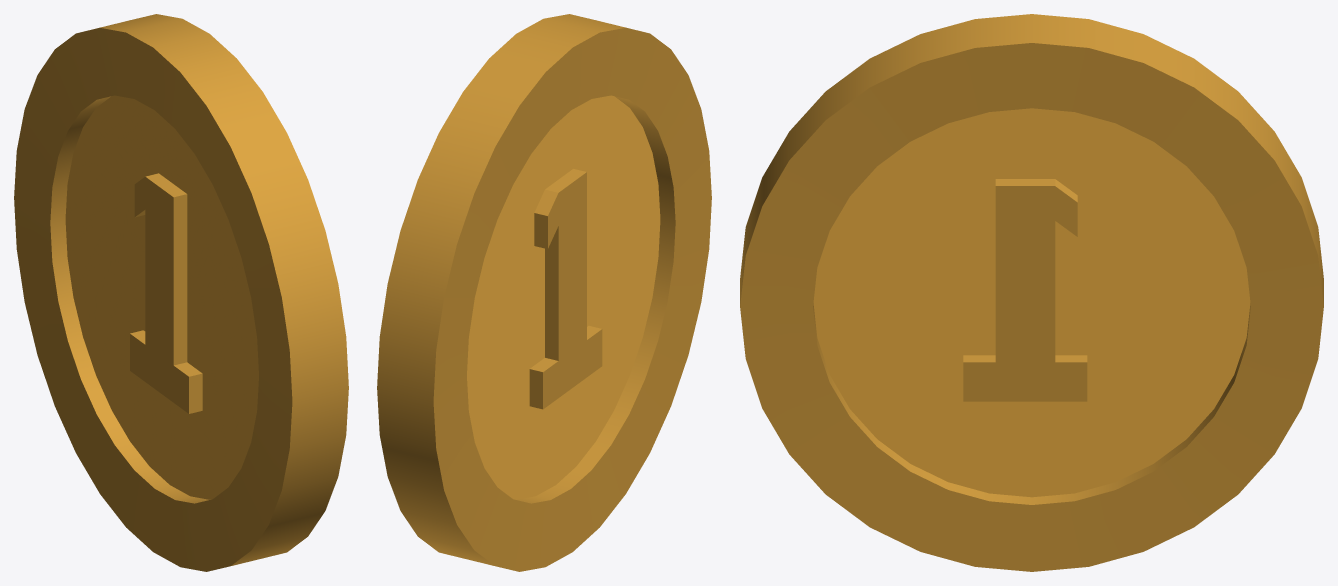
Rendered from Coin.fbx.
3 views of the same model, side by side, from view 1: azimuth 30°, elevation 25°; view 2: azimuth 150°, elevation 25°; view 3: azimuth 270°, elevation 25° (orthographic). The views are drawn at different scales.
Visible parts, largest first — view 1: Cylinder.007, Cylinder.006, Cube.004; view 2: Cylinder.007, Cylinder.006, Cube.004; view 3: Cylinder.007, Cylinder.006, Cube.004.
Boxes of the visible parts, x1,y1,x2,y2 form: Cylinder.007: [14, 14, 348, 571]; Cylinder.006: [65, 95, 258, 499]; Cube.004: [130, 173, 202, 413]; Cylinder.007: [377, 14, 711, 571]; Cylinder.006: [467, 95, 660, 499]; Cube.004: [529, 169, 602, 409]; Cylinder.007: [740, 14, 1323, 571]; Cylinder.006: [813, 108, 1250, 497]; Cube.004: [963, 179, 1087, 401].
Size of the model in its own units: 0.0467 by 0.3986 by 0.3986.
